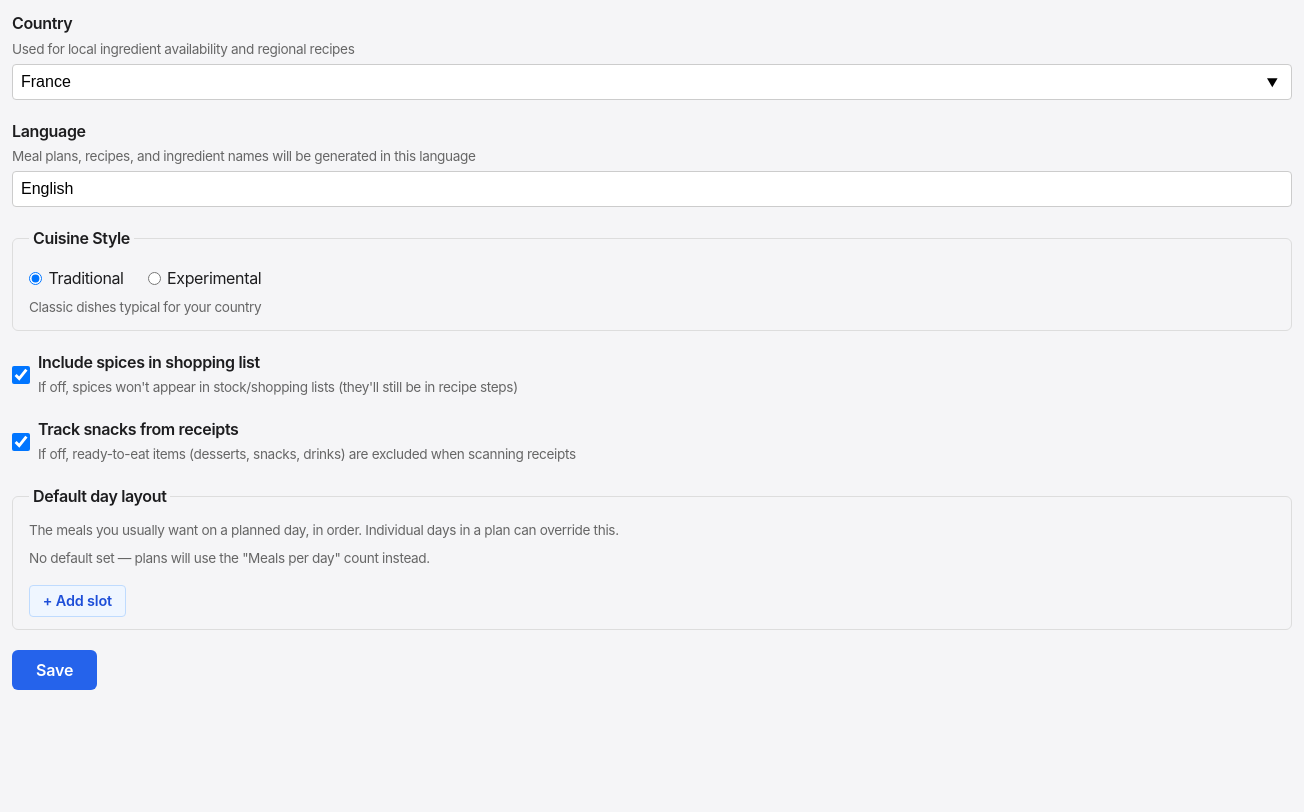
PreferencesForm › Enter completes language from a prefix match without submitting
Replace the text in the field with placeholder "e.g. English, Czech, Spanish..." with "cz": (652, 189) 12,171 -> 1292,207
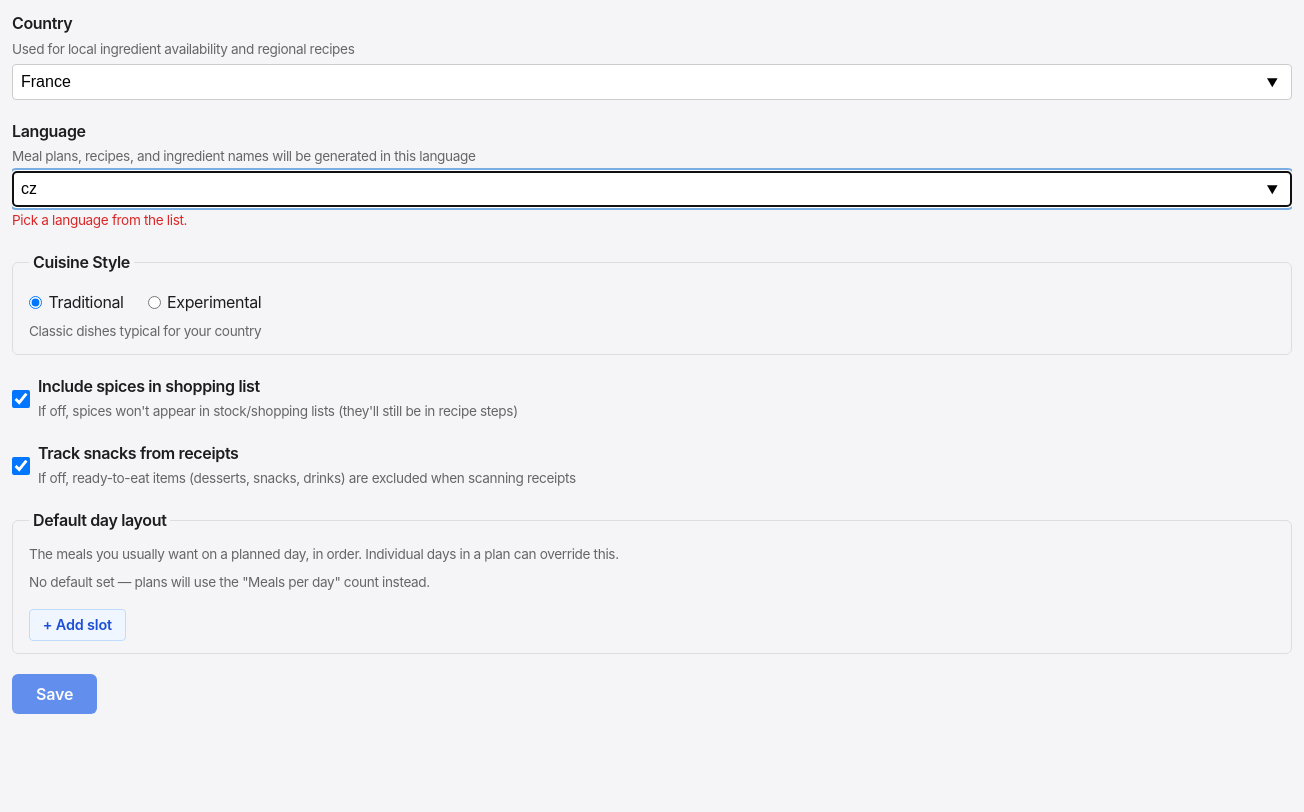
Press Enter
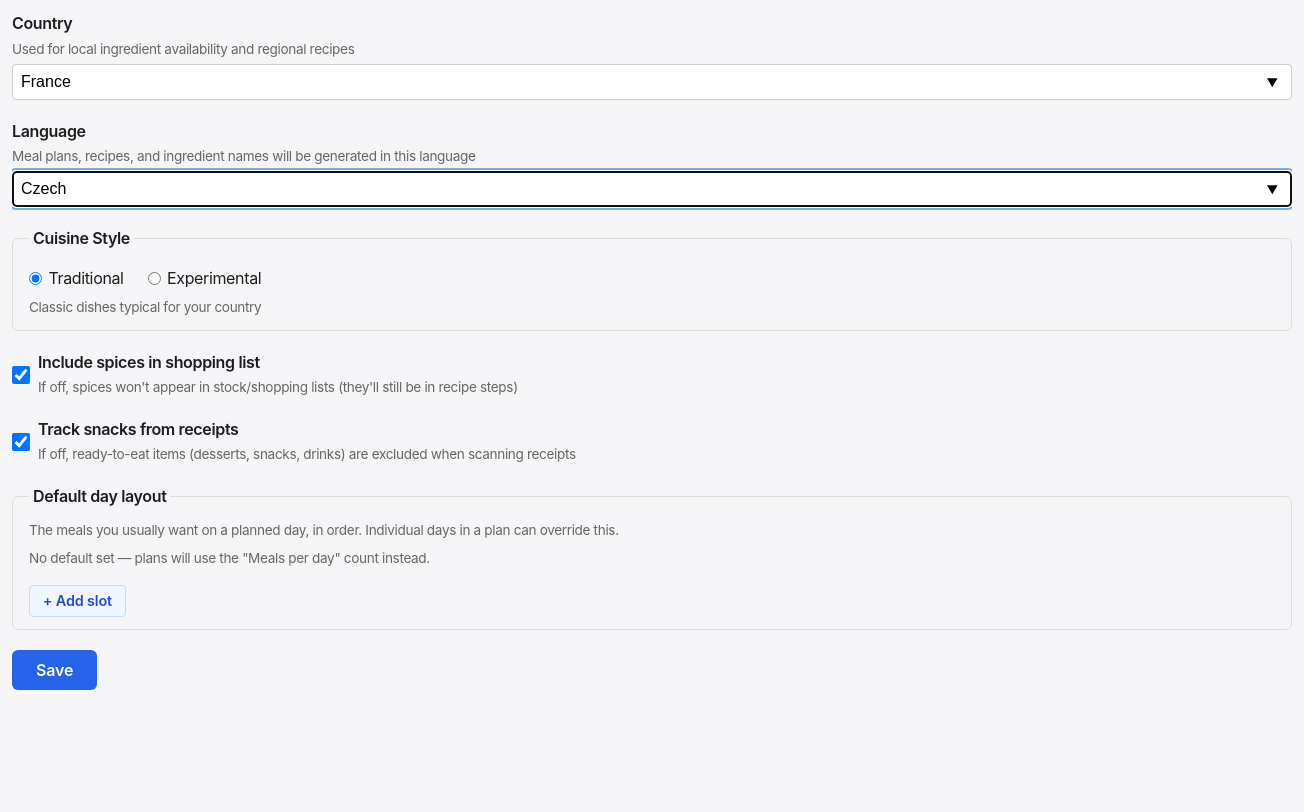
Expected: the field with placeholder "e.g. English, Czech, Spanish..." holds "Czech", 12,171 -> 1292,207
